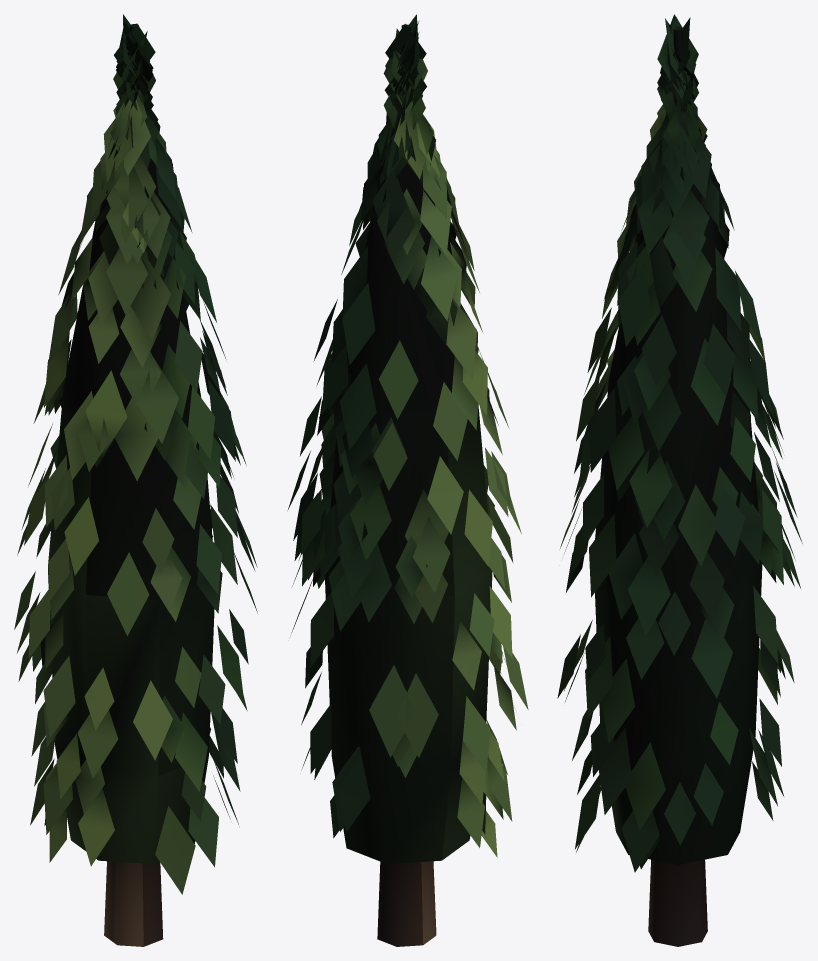
Rendered from cipres_bajo.glb.
3 renders of one model, left to right at view 1: azimuth 30°, elevation 25°; view 2: azimuth 150°, elevation 25°; view 3: azimuth 270°, elevation 25°, orthographic.
Visible parts, largest first — view 1: cipres_bajo_vegetacion, cipres_bajo_piezas; view 2: cipres_bajo_vegetacion, cipres_bajo_piezas; view 3: cipres_bajo_vegetacion, cipres_bajo_piezas.
Part boxes in pixels (x1,y1,x2,y2): cipres_bajo_vegetacion: (14, 14, 257, 894); cipres_bajo_piezas: (48, 24, 214, 946); cipres_bajo_vegetacion: (287, 14, 528, 857); cipres_bajo_piezas: (325, 24, 492, 946); cipres_bajo_vegetacion: (557, 14, 802, 872); cipres_bajo_piezas: (595, 26, 762, 946).
Bounding box in the file's own units: 1.04 × 4.29 × 1.05.
